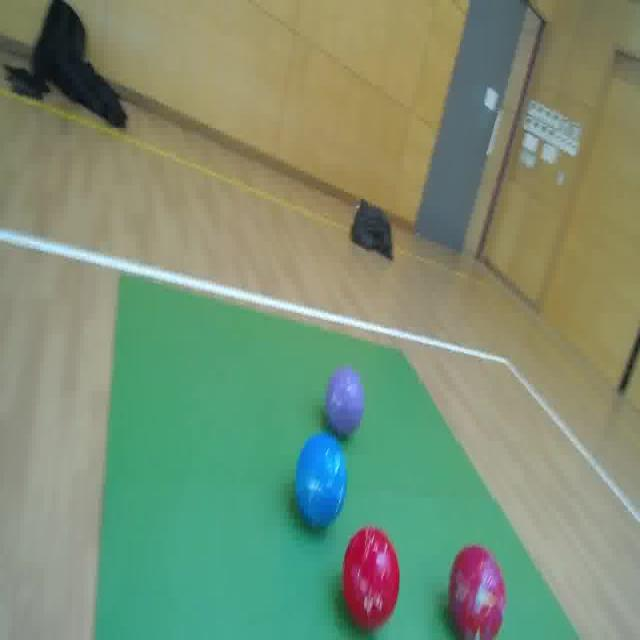blue_ball: (293, 433, 347, 528)
purple_ball: (322, 363, 367, 439)
red_ball: (339, 524, 404, 632), (443, 540, 508, 640)
